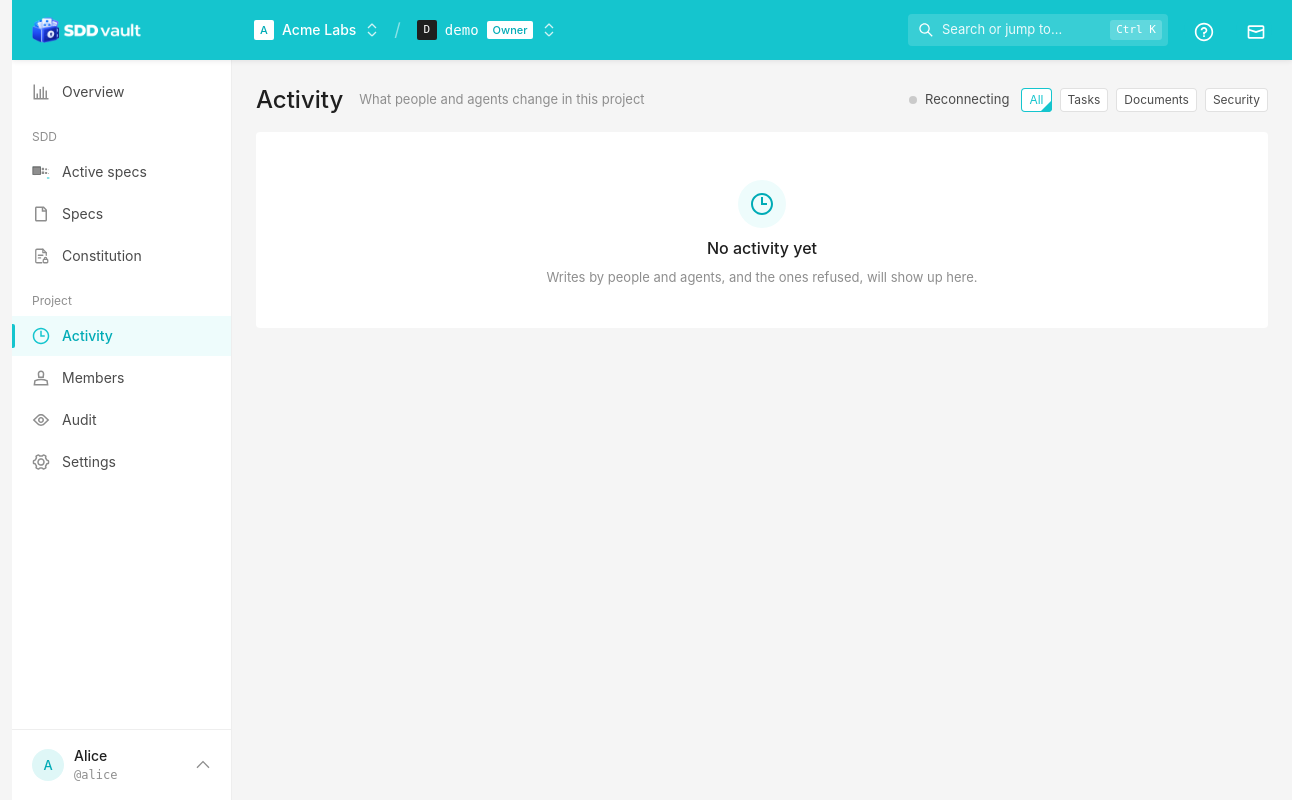
Scenario: the language choice in the user menu switches the texts and is saved
Expected: the heading "Activity" is shown, x1=256 y1=84 x2=343 y2=116
Click the button with aria-label "User menu". click: (122, 765)
box: x1=12 y1=730 x2=231 y2=799
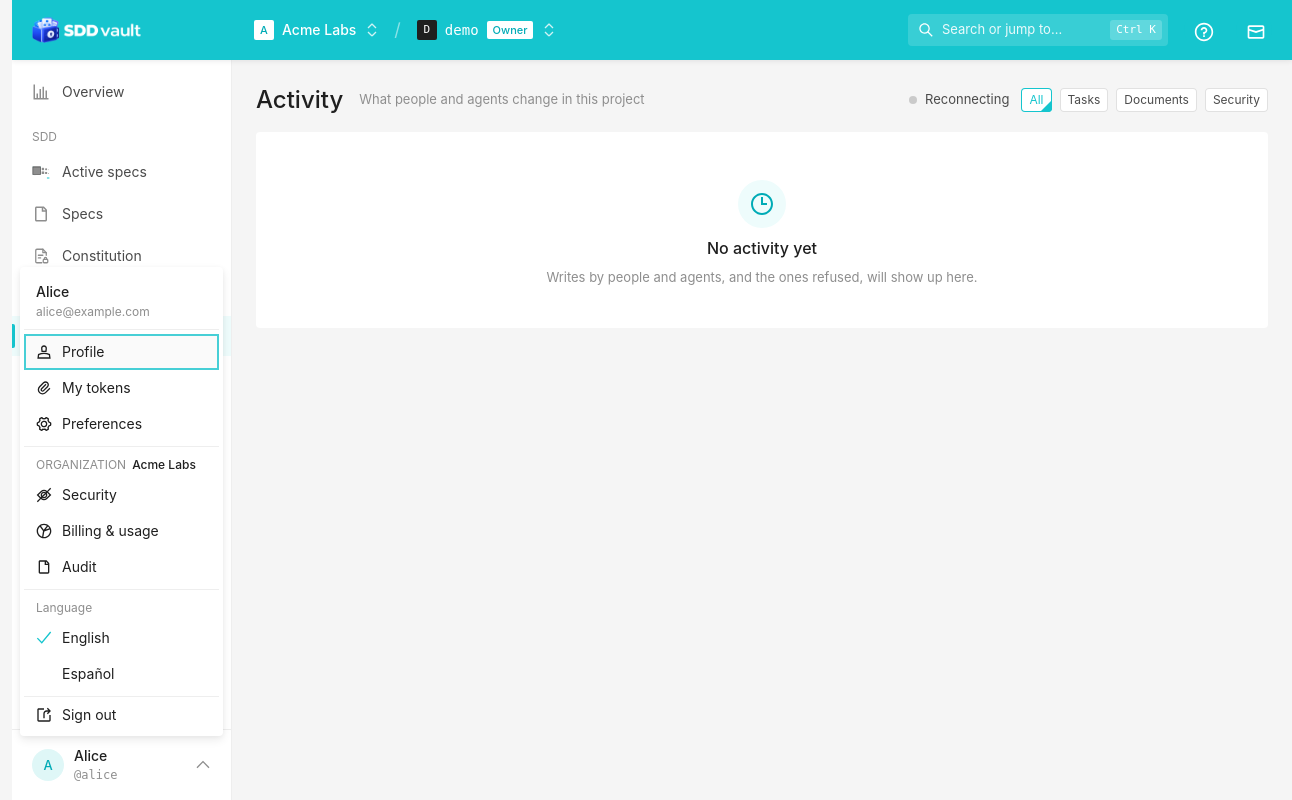
Click the menu item "Español". click: (122, 674)
box: x1=24 y1=656 x2=219 y2=692
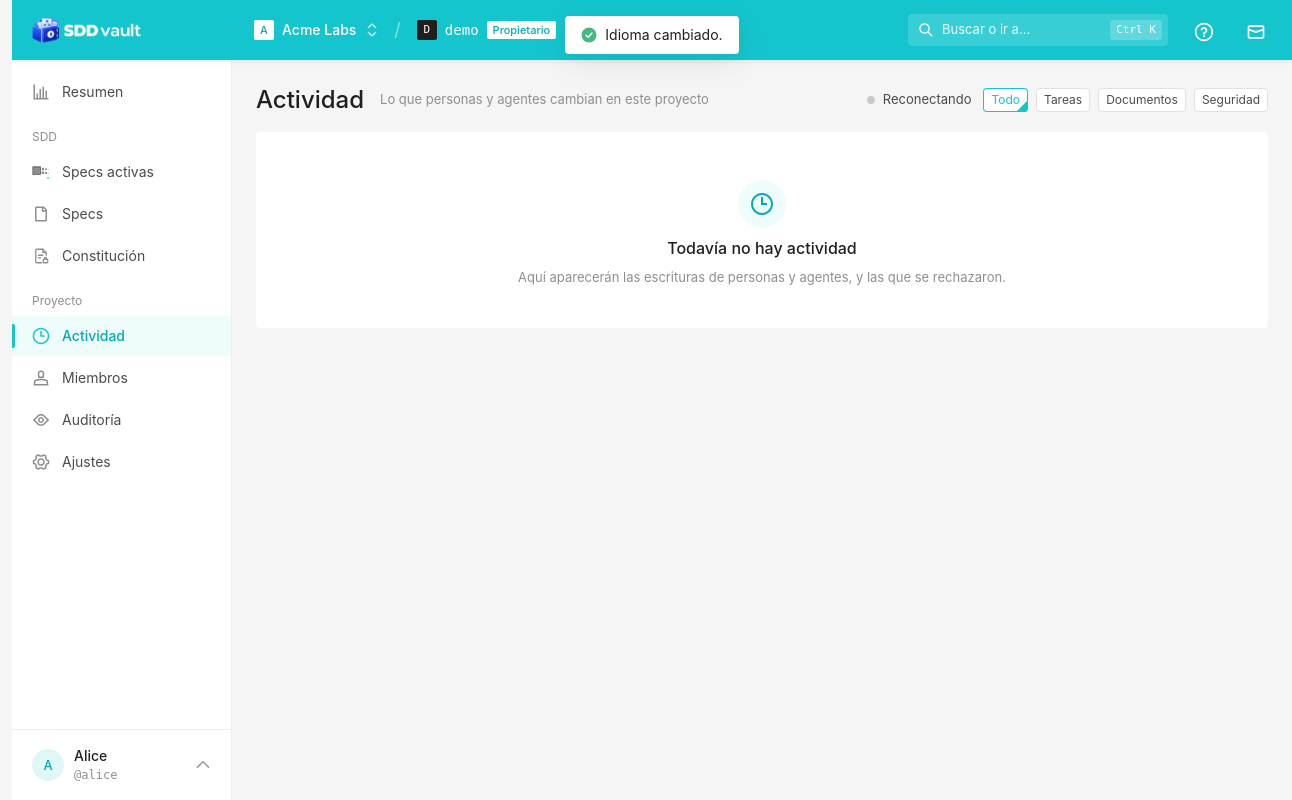
Expected: the heading "Actividad" is shown, x1=256 y1=84 x2=364 y2=116
